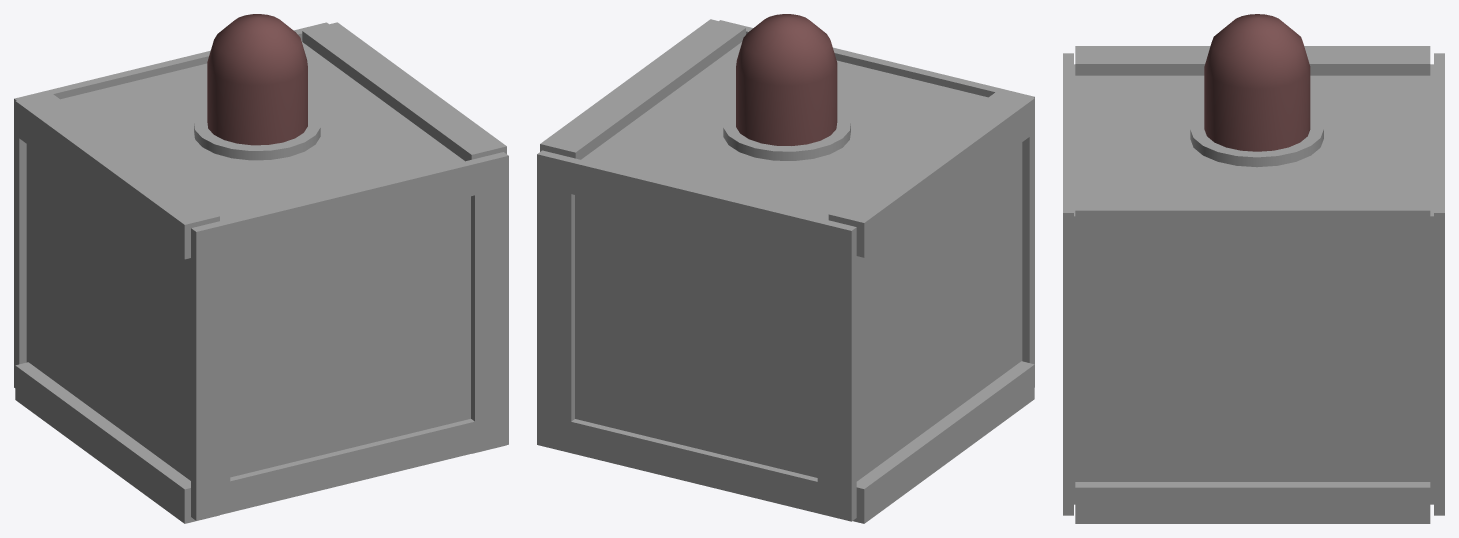
The model's file is crate_01.fbx.
3 views of the same model, side by side, from view 1: azimuth 30°, elevation 25°; view 2: azimuth 150°, elevation 25°; view 3: azimuth 270°, elevation 25° (orthographic). The views are drawn at different scales.
Visible parts, largest first — view 1: pCube93; view 2: pCube93; view 3: pCube93.
Part boxes in pixels (x1,y1,x2,y2): pCube93: (14, 14, 508, 523); pCube93: (537, 14, 1034, 523); pCube93: (1063, 14, 1444, 523).
Bounding box in the file's own units: 1.97 × 2.36 × 1.93.
